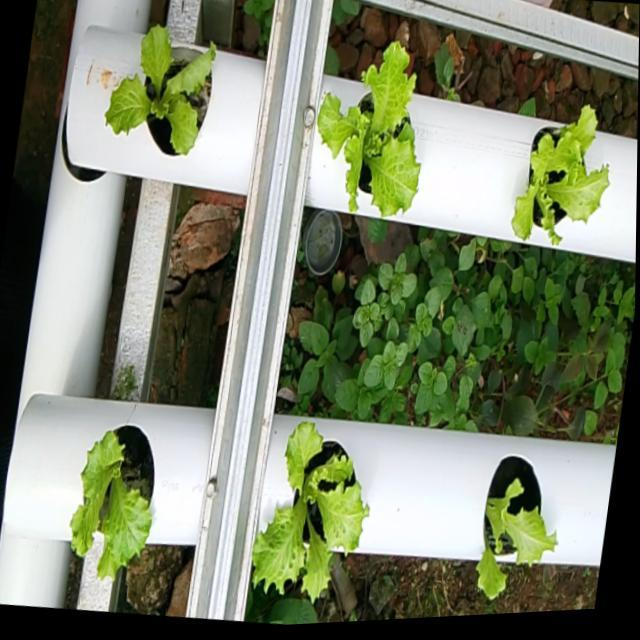Baby: (248, 424, 365, 607), (312, 45, 416, 220), (100, 29, 212, 161), (506, 106, 603, 246), (66, 429, 150, 583), (473, 454, 552, 598)
